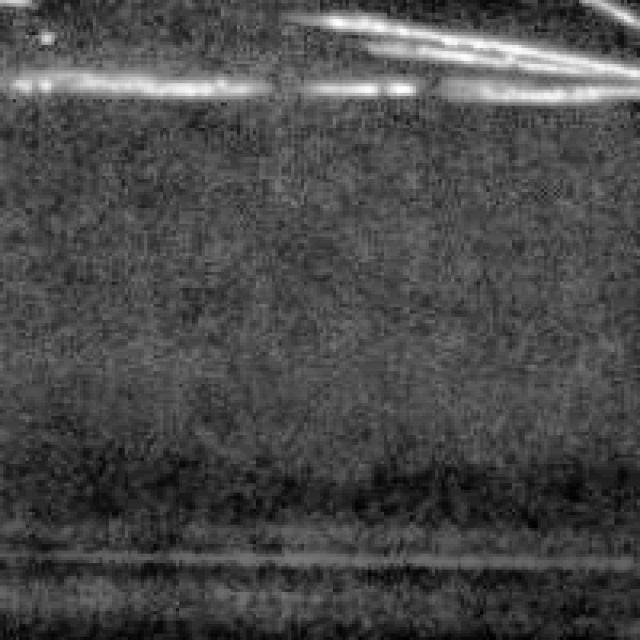Inclusion: (278, 0, 637, 106), (3, 48, 272, 106)
